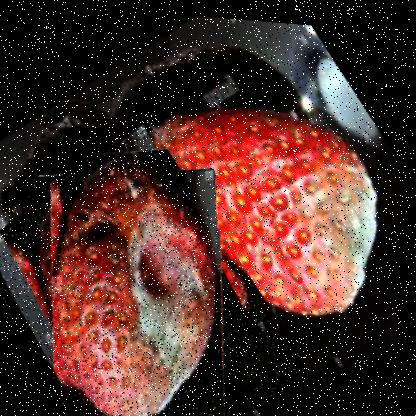strawberry_rotten: (0, 105, 332, 415)
